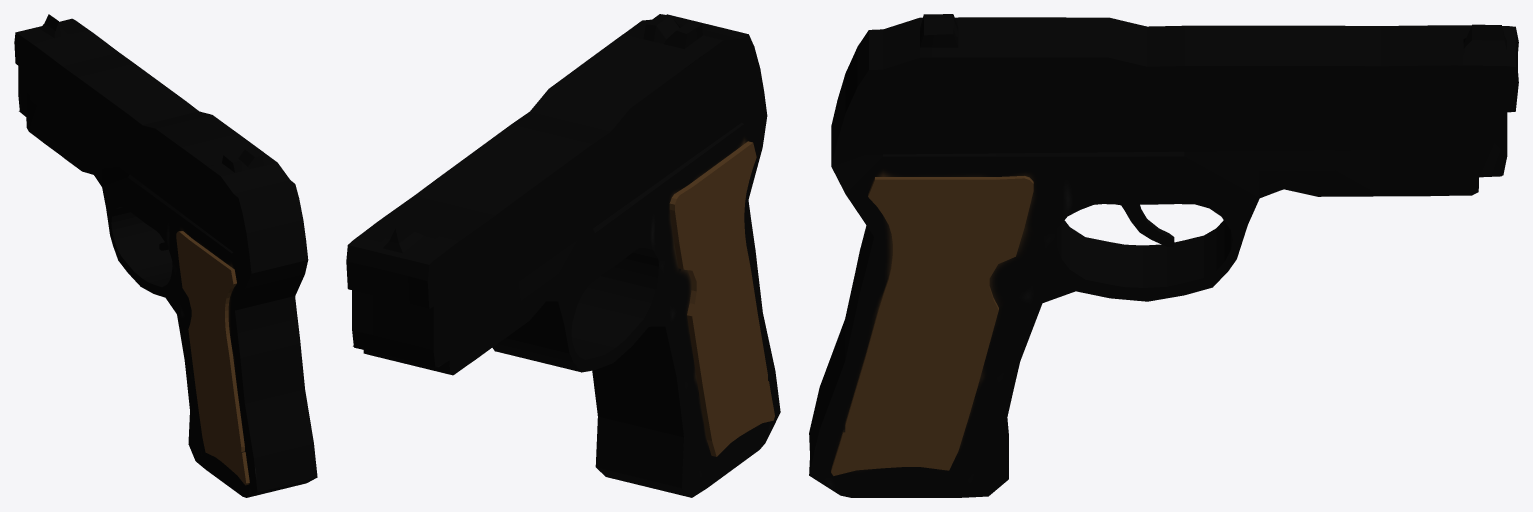
File: pistol.glb
3 views of the same model, side by side, from view 1: azimuth 30°, elevation 25°; view 2: azimuth 150°, elevation 25°; view 3: azimuth 270°, elevation 25° (orthographic). The views are drawn at different scales.
Parts seen in each view (by area): view 1: Cube; view 2: Cube; view 3: Cube.
Part boxes in pixels (x1,y1,x2,y2): Cube: (14, 14, 317, 497); Cube: (346, 14, 780, 497); Cube: (809, 14, 1518, 497).
Size of the model in its own units: 0.7676 by 3.4 by 4.83.
2 materials, 2 textured.
